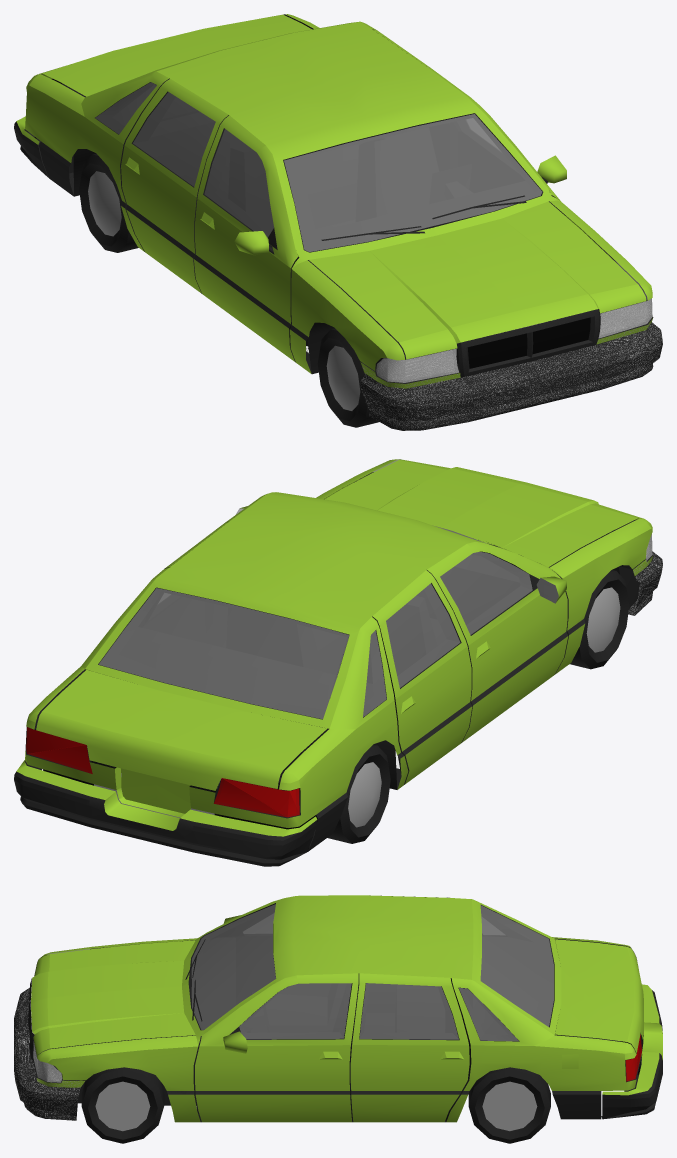
The model's file is green_car.dae.
3 renders of one model, top to bottom at view 1: azimuth 30°, elevation 25°; view 2: azimuth 150°, elevation 25°; view 3: azimuth 270°, elevation 25°, orthographic. The views are drawn at different scales.
Parts seen in each view (by area): view 1: SketchUp (×32); view 2: SketchUp (×27); view 3: SketchUp (×30).
Boxes of the visible parts, x1,y1,x2,y2 form: SketchUp (×32): (14, 14, 662, 430); SketchUp (×27): (14, 459, 662, 866); SketchUp (×30): (14, 895, 662, 1143).
Size of the model in its own units: 70.35 by 150 by 41.4.
Materials: 17 (2 with a texture image).
